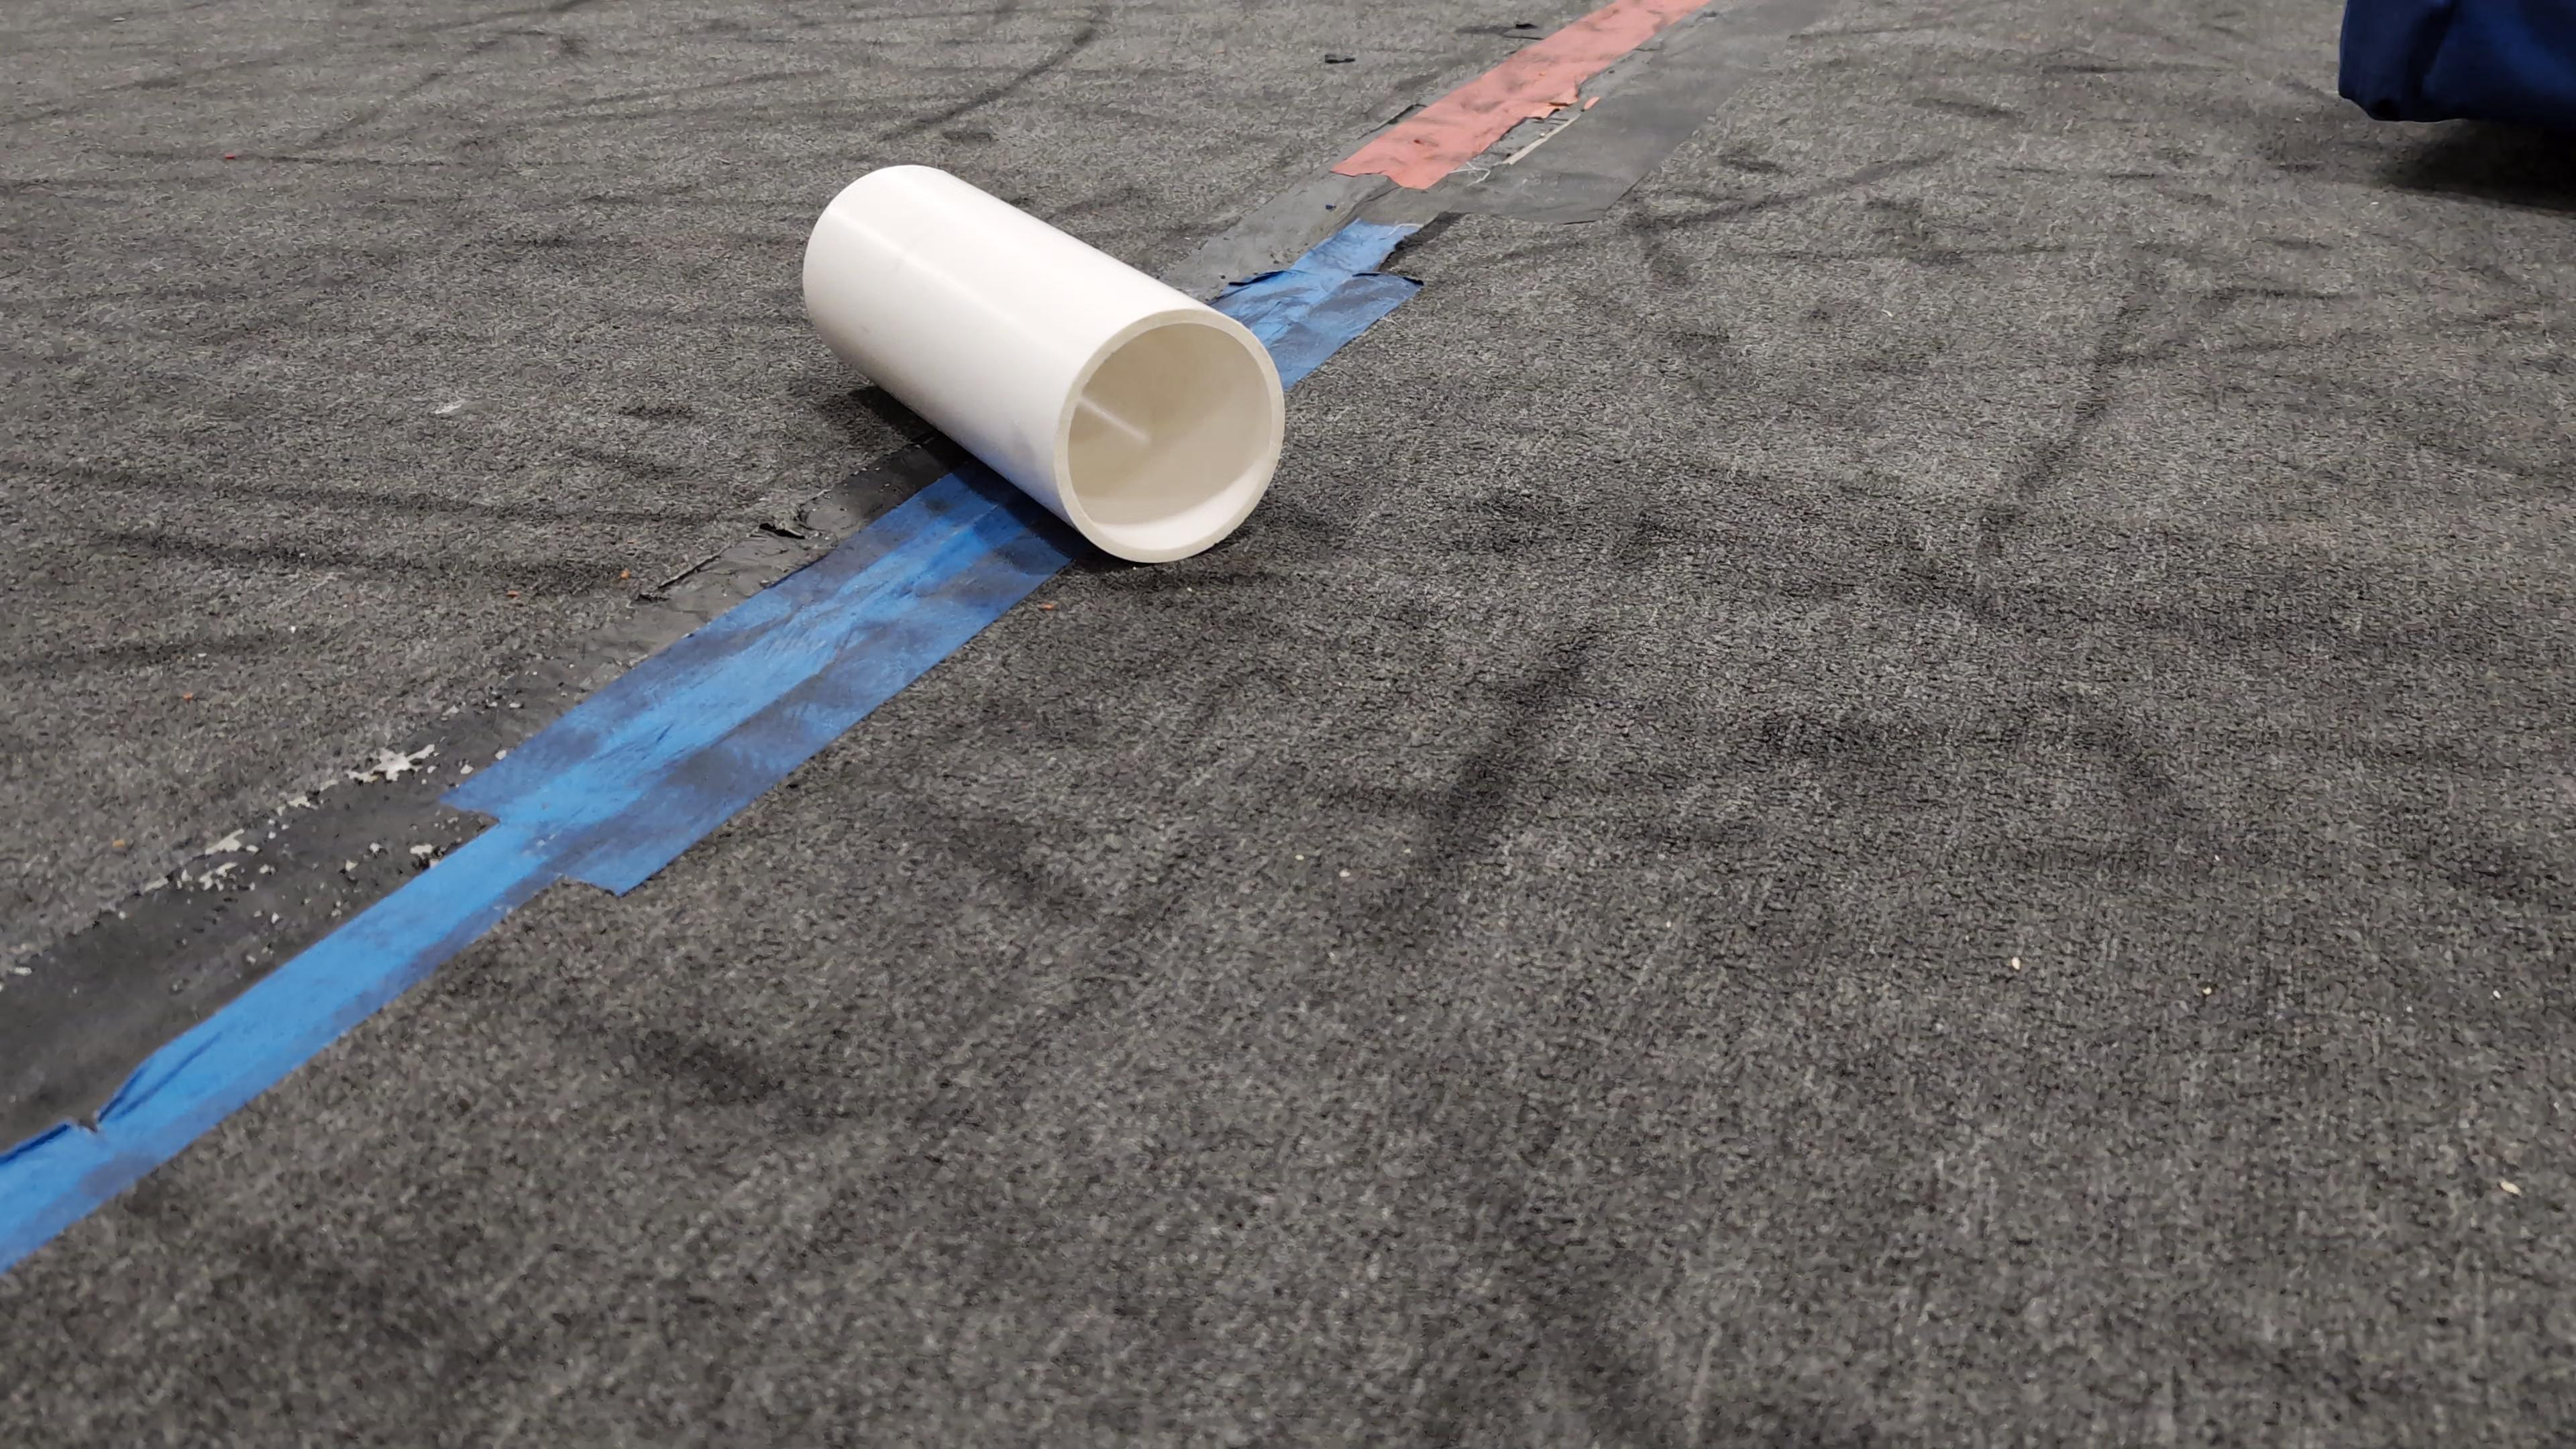coral: (800, 159, 1288, 563)
